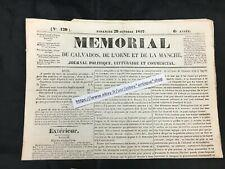paper: (21, 19, 222, 160)
